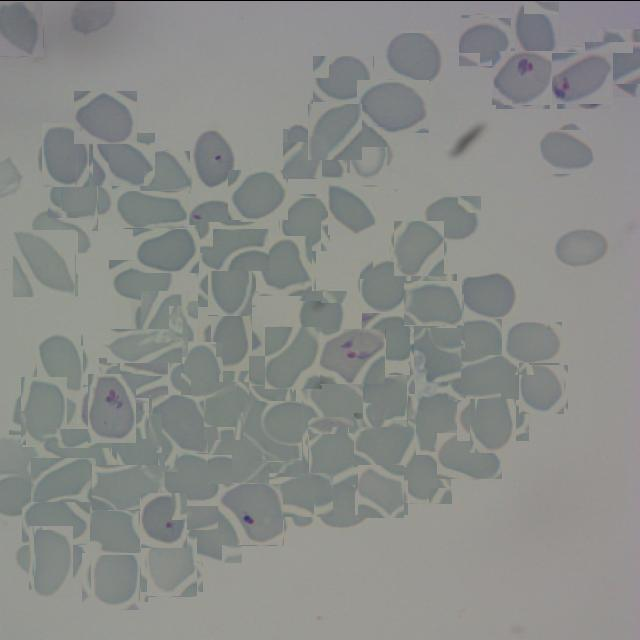leukocyte: (12, 230, 78, 296), (357, 79, 429, 132), (110, 417, 171, 478), (149, 394, 212, 453), (243, 400, 303, 461), (283, 123, 348, 178), (408, 393, 466, 454), (265, 326, 322, 388), (200, 220, 270, 270), (463, 388, 522, 447), (74, 90, 138, 144), (21, 532, 80, 590), (159, 450, 223, 503), (43, 428, 112, 477), (86, 548, 144, 606), (306, 424, 364, 482), (95, 130, 153, 188), (15, 382, 74, 439), (92, 464, 163, 510), (22, 496, 90, 544), (174, 348, 231, 405), (136, 295, 193, 352), (185, 505, 242, 562), (258, 236, 314, 294), (308, 374, 369, 427), (384, 30, 446, 82), (99, 357, 169, 403), (82, 504, 146, 554), (448, 354, 519, 399), (143, 538, 200, 594), (133, 224, 199, 272), (38, 126, 94, 182), (208, 432, 268, 484), (308, 103, 362, 159), (394, 451, 452, 503), (228, 169, 288, 219), (437, 432, 502, 478), (458, 271, 520, 319), (354, 418, 416, 466), (313, 54, 374, 102), (278, 195, 332, 249), (203, 257, 257, 311), (274, 466, 328, 520), (407, 276, 460, 330), (31, 457, 96, 501), (315, 478, 371, 529), (109, 259, 175, 302), (392, 222, 446, 274), (34, 336, 86, 389), (362, 374, 415, 426), (116, 190, 188, 228), (205, 312, 257, 364), (201, 384, 253, 436), (358, 259, 411, 310), (362, 312, 417, 361), (591, 34, 640, 89), (424, 195, 482, 241), (54, 172, 106, 223), (31, 210, 92, 253), (328, 183, 379, 234), (412, 329, 463, 380), (515, 1, 560, 58), (460, 15, 510, 66), (107, 328, 182, 362), (296, 290, 348, 339), (552, 226, 612, 268), (541, 126, 591, 176), (356, 466, 406, 516), (444, 318, 502, 361), (0, 1, 44, 56), (518, 362, 566, 412), (506, 321, 562, 363), (269, 400, 322, 444), (246, 356, 294, 404), (346, 130, 392, 176), (140, 150, 190, 192)
red blood cell: (218, 483, 284, 545), (320, 328, 386, 384), (82, 378, 142, 438), (494, 48, 552, 106), (554, 48, 611, 105), (138, 494, 190, 544)
